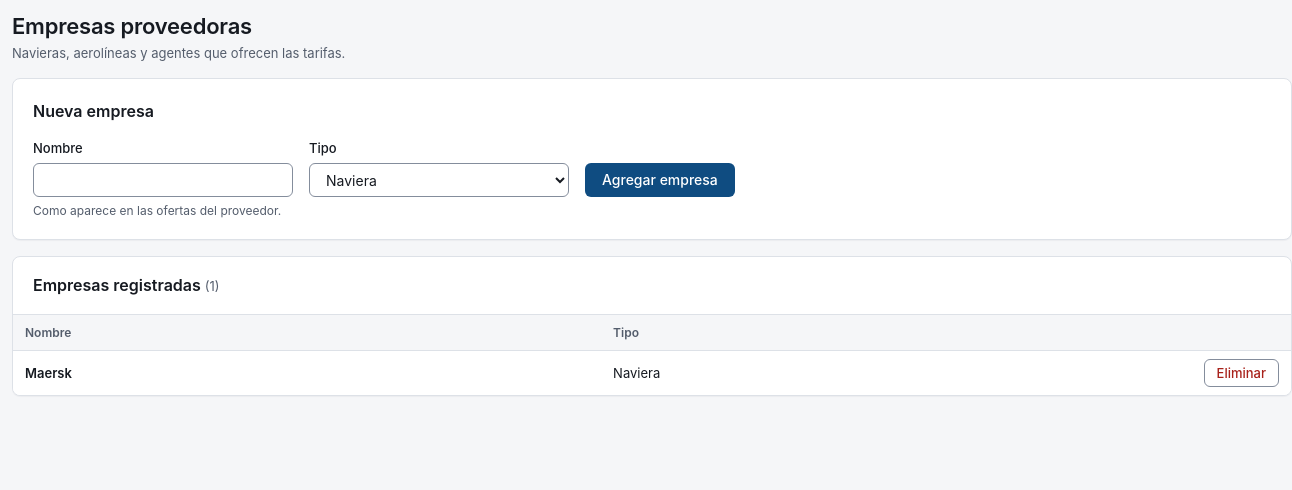
EmpresasPage › elimina y recarga; muestra el error si falla
The image size is (1292, 490).
Expected: the text "Maersk" is shown, left=25, top=365, right=72, bottom=381
What coordinates should you click on to do the following:
click the button "Eliminar"
I would click on:
 (1241, 373)
Its box is left=1204, top=359, right=1279, bottom=387.
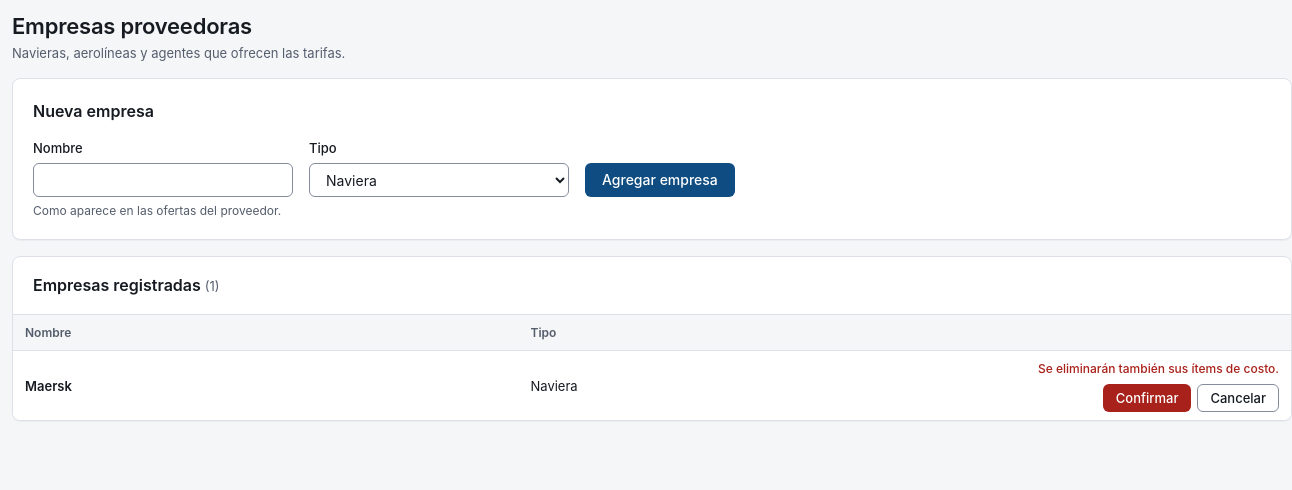
What coordinates should you click on to do the following:
click the button "Confirmar"
I would click on:
 (1147, 398)
Its box is left=1103, top=384, right=1191, bottom=412.
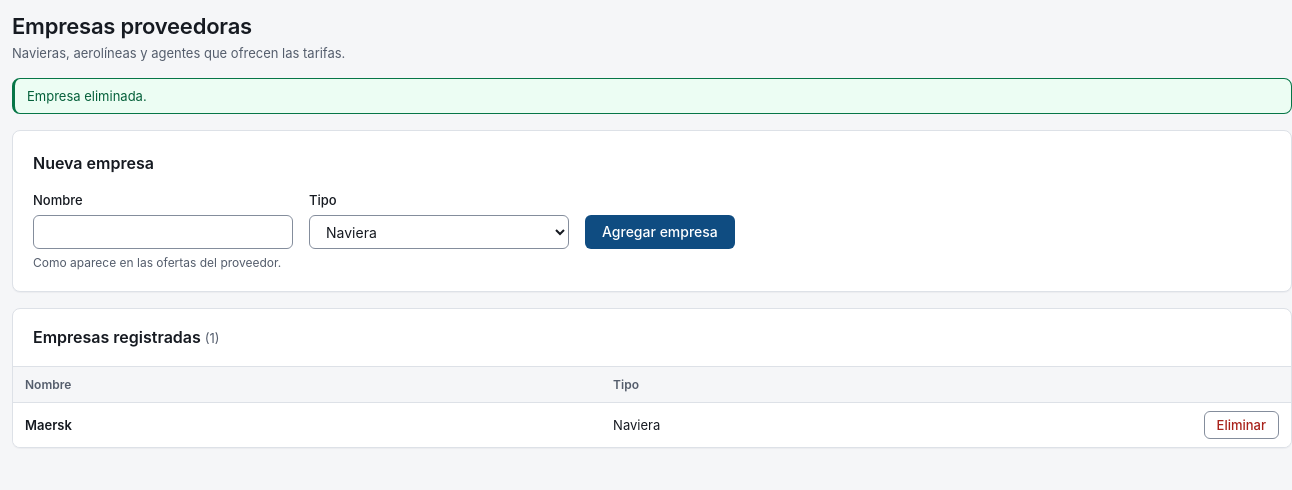
Expected: the text "Empresa eliminada." is shown, left=12, top=78, right=1291, bottom=114
What coordinates should you click on to do the following:
click the button "Eliminar"
I would click on:
 (1241, 425)
Its box is left=1204, top=411, right=1279, bottom=439.
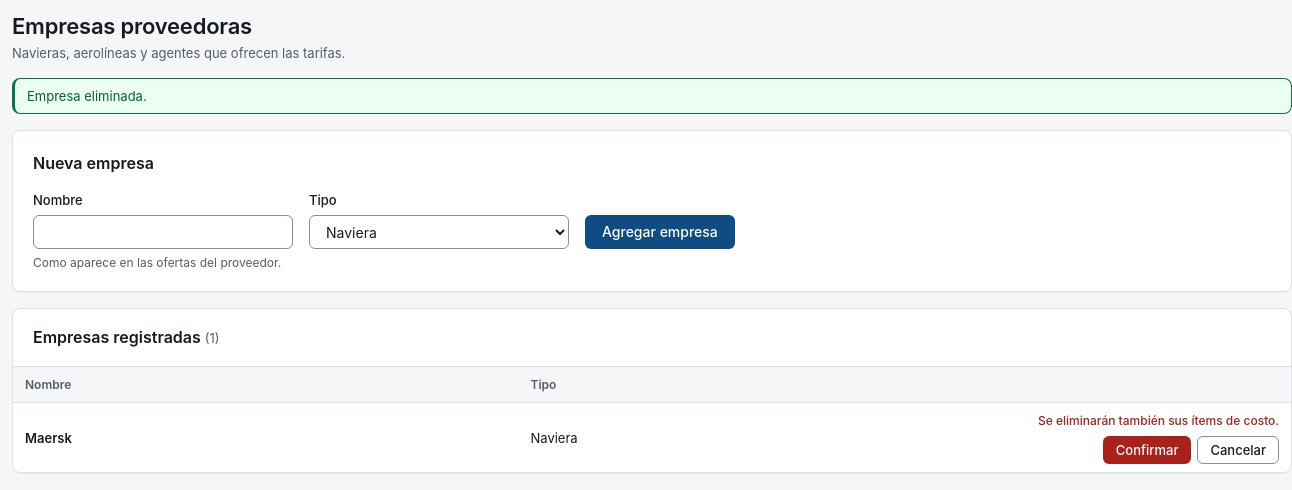
What coordinates should you click on to do the following:
click the button "Confirmar"
I would click on:
 (1147, 450)
Its box is left=1103, top=436, right=1191, bottom=464.
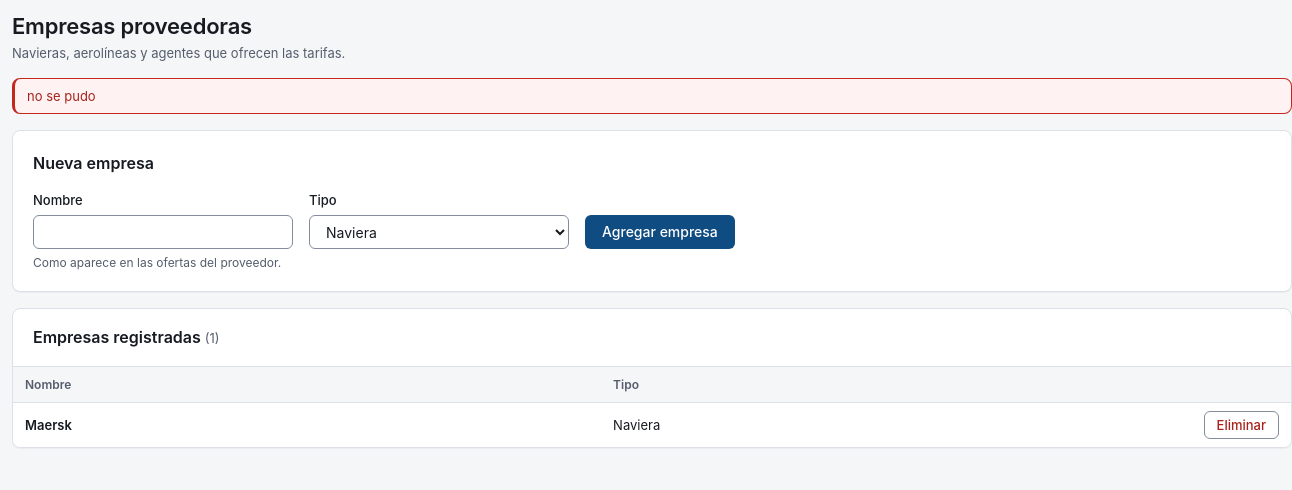
Expected: the text "no se pudo" is shown, left=12, top=78, right=1291, bottom=114
